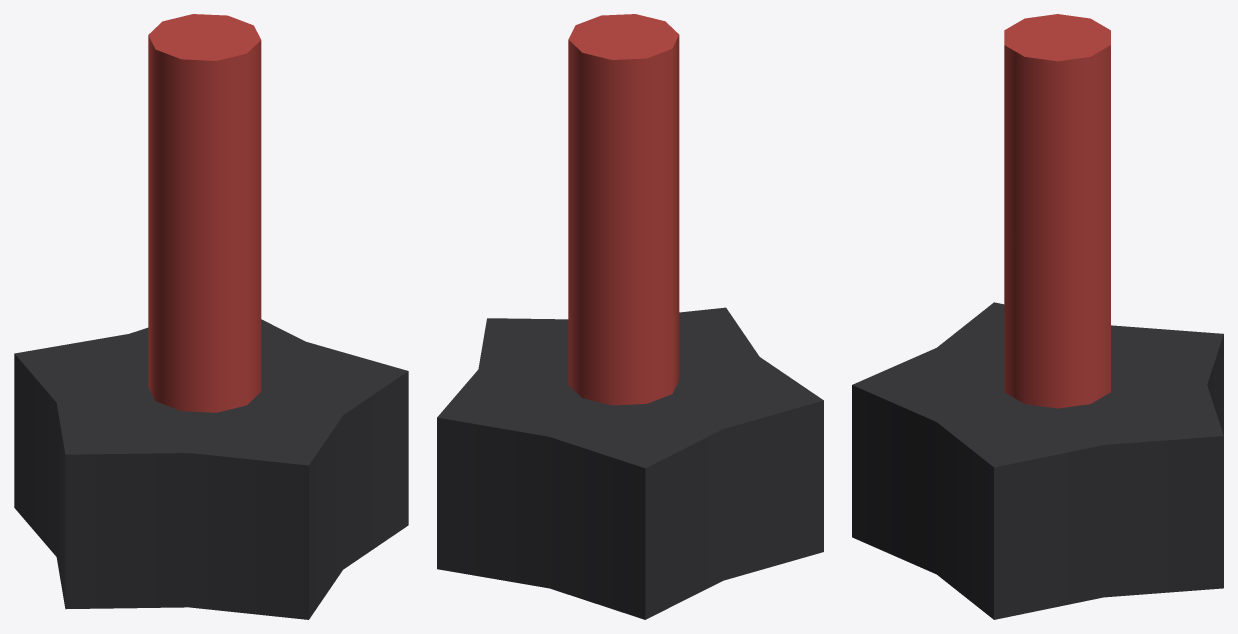
File: friction_lod1.glb
3 views of the same model, side by side, from view 1: azimuth 30°, elevation 25°; view 2: azimuth 150°, elevation 25°; view 3: azimuth 270°, elevation 25° (orthographic).
Visible parts, largest first — view 1: friction_lod1; view 2: friction_lod1; view 3: friction_lod1.
Part boxes in pixels (x1=…): friction_lod1: x1=14, y1=14, x2=408, y2=619; friction_lod1: x1=437, y1=14, x2=823, y2=619; friction_lod1: x1=852, y1=14, x2=1223, y2=619.
Bounding box in the file's own units: 0.0418 × 0.059 × 0.0398.
